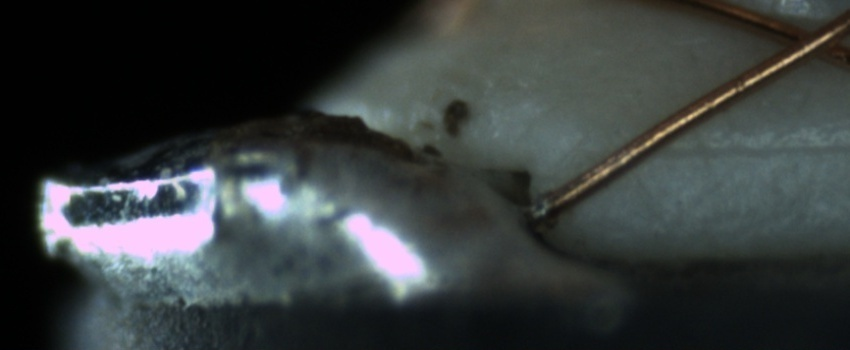CL: (762, 10, 846, 72)
DL: (632, 114, 847, 183)
